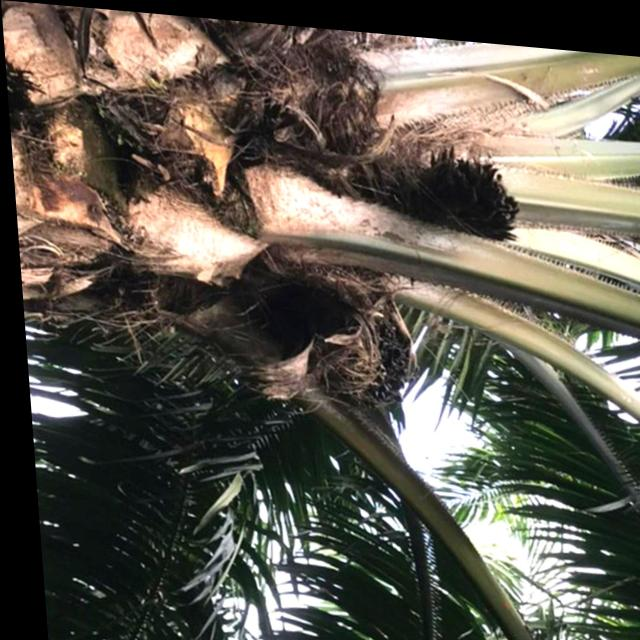almost: (267, 256, 412, 408)
